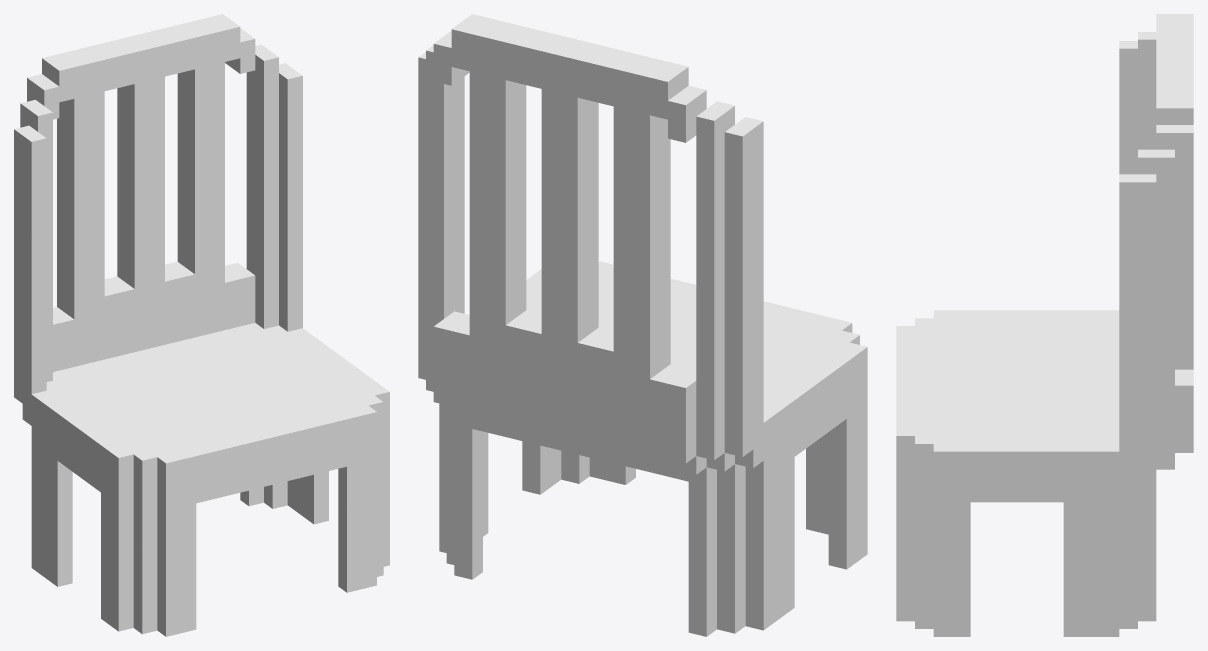
File: Chair1-1.fbx
The picture shows the model from 3 angles, left to right: view 1: azimuth 30°, elevation 25°; view 2: azimuth 150°, elevation 25°; view 3: azimuth 270°, elevation 25°; orthographic projection. The views are drawn at different scales.
Parts seen in each view (by area): view 1: Chair1-1; view 2: Chair1-1; view 3: Chair1-1.
Boxes of the visible parts, <box> form: Chair1-1: <box>14,14,389,636</box>; Chair1-1: <box>418,14,867,636</box>; Chair1-1: <box>896,14,1193,636</box>.
Bounding box in the file's own units: 1.8 × 3 × 1.6.
